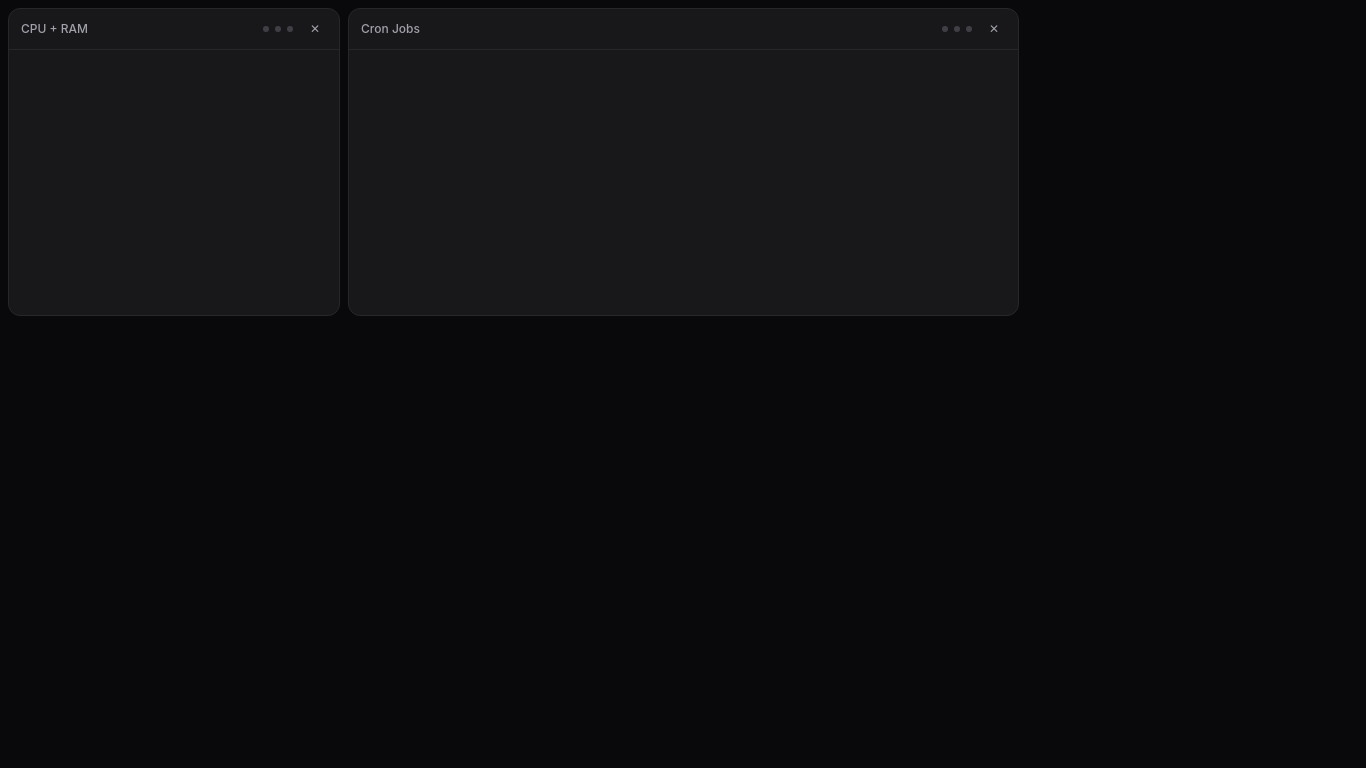
Test: WidgetGrid undo after remove › keeps one live region mounted before and after a removal
Click the button "✕" in the row of "CPU + RAM": {"x": 315, "y": 29} [303, 17, 327, 41]
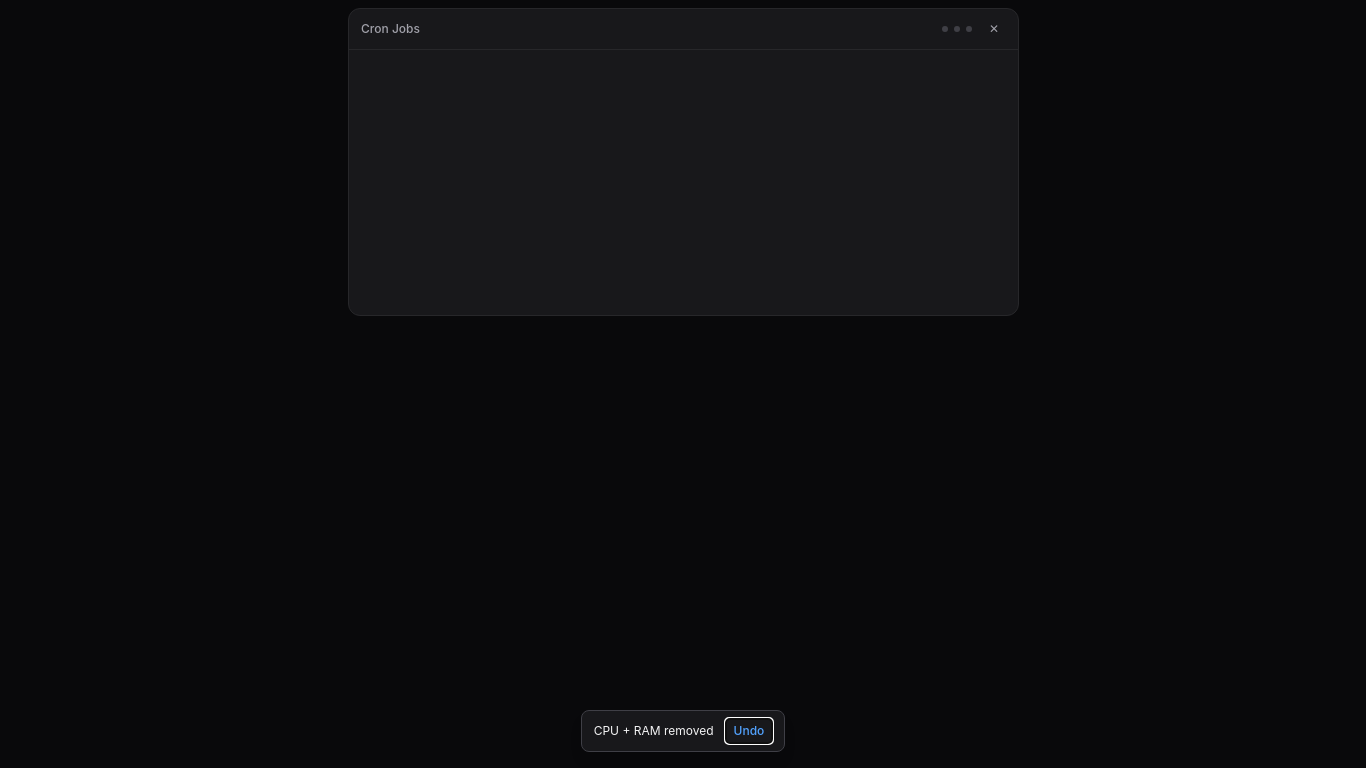
Expected: the number of messages is 1, [581, 710, 785, 752]
Expected: the message "CPU + RAM removed Undo" is shown, [581, 710, 785, 752]
